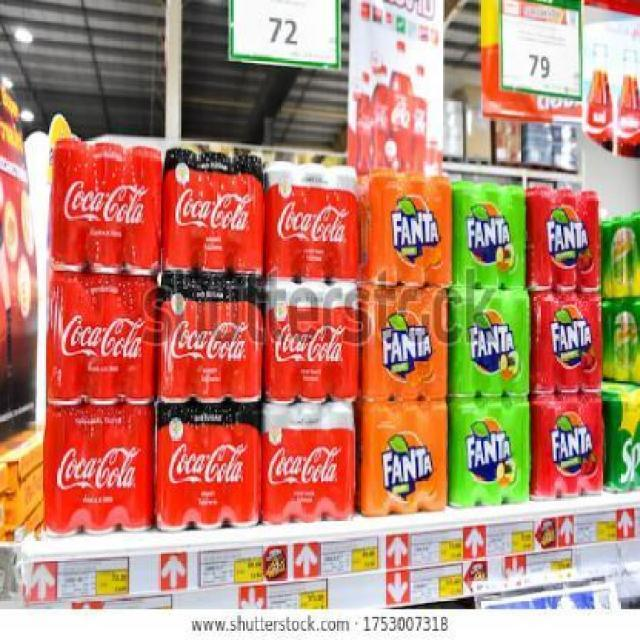Drinks: (50, 139, 162, 279), (42, 407, 153, 538), (158, 273, 266, 405), (47, 277, 156, 405), (155, 404, 261, 532), (163, 148, 263, 272), (263, 279, 360, 405), (260, 405, 357, 525), (263, 159, 359, 279), (358, 400, 449, 516), (359, 285, 448, 401), (368, 169, 452, 286), (447, 399, 531, 508), (447, 287, 530, 396), (527, 183, 601, 292), (452, 183, 526, 289), (531, 395, 603, 501), (529, 293, 603, 395)
